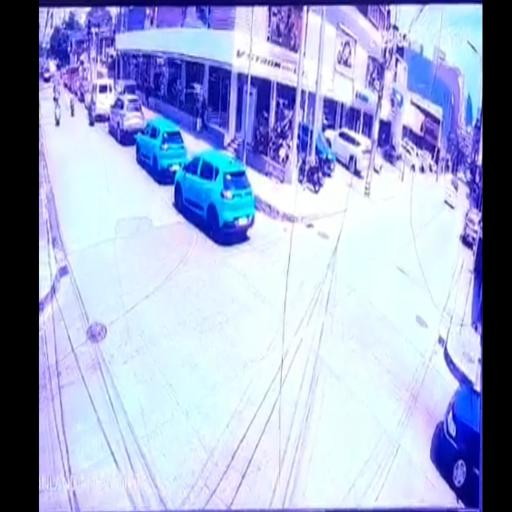Car: (174, 142, 254, 239), (431, 380, 481, 509), (133, 116, 187, 182), (296, 123, 336, 175), (327, 128, 372, 174), (108, 93, 146, 143), (87, 78, 114, 121), (401, 140, 434, 174), (460, 206, 481, 248), (444, 176, 459, 208), (42, 61, 56, 82)
Motor: (298, 152, 324, 193), (84, 90, 95, 126), (53, 91, 63, 128), (70, 92, 75, 117)
